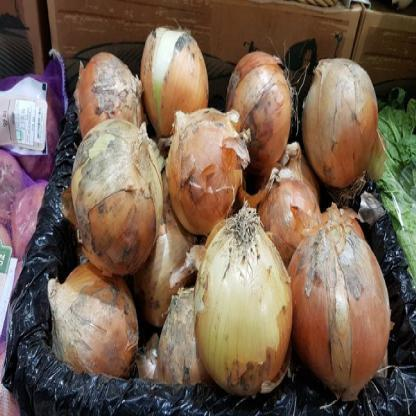onion: (279, 202, 392, 392), (187, 219, 291, 398), (66, 113, 157, 260), (55, 248, 138, 380), (168, 104, 236, 232), (233, 40, 296, 172), (142, 20, 210, 128), (318, 58, 374, 187), (67, 44, 144, 134), (257, 148, 316, 254)
